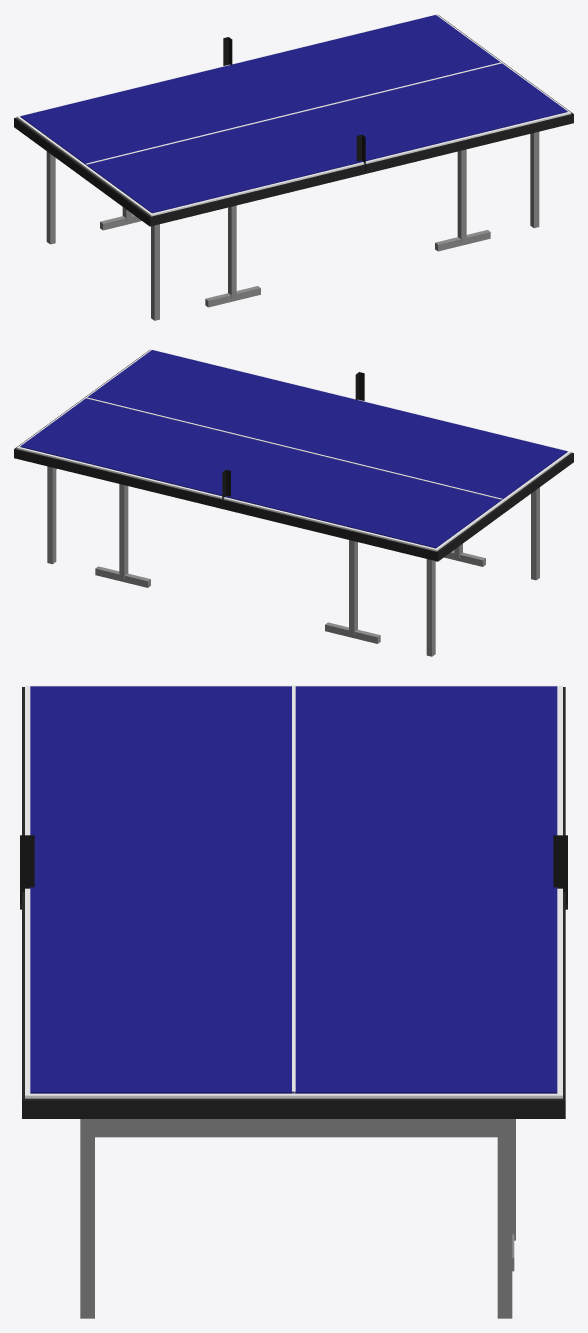
The model's file is maintable.fbx.
3 renders of one model, top to bottom at view 1: azimuth 30°, elevation 25°; view 2: azimuth 150°, elevation 25°; view 3: azimuth 270°, elevation 25°, orthographic. The views are drawn at different scales.
Parts seen in each view (by area): view 1: Cube.003; view 2: Cube.003; view 3: Cube.003.
Part boxes in pixels (x1,y1,x2,y2): Cube.003: (14, 14, 573, 320); Cube.003: (14, 349, 573, 656); Cube.003: (20, 685, 567, 1318).
Bounding box in the file's own units: 438 × 145 × 245.
